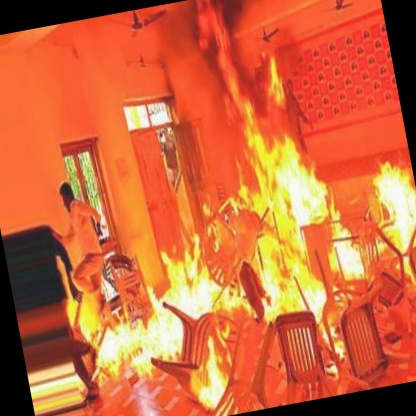fire: (124, 141, 416, 384)
